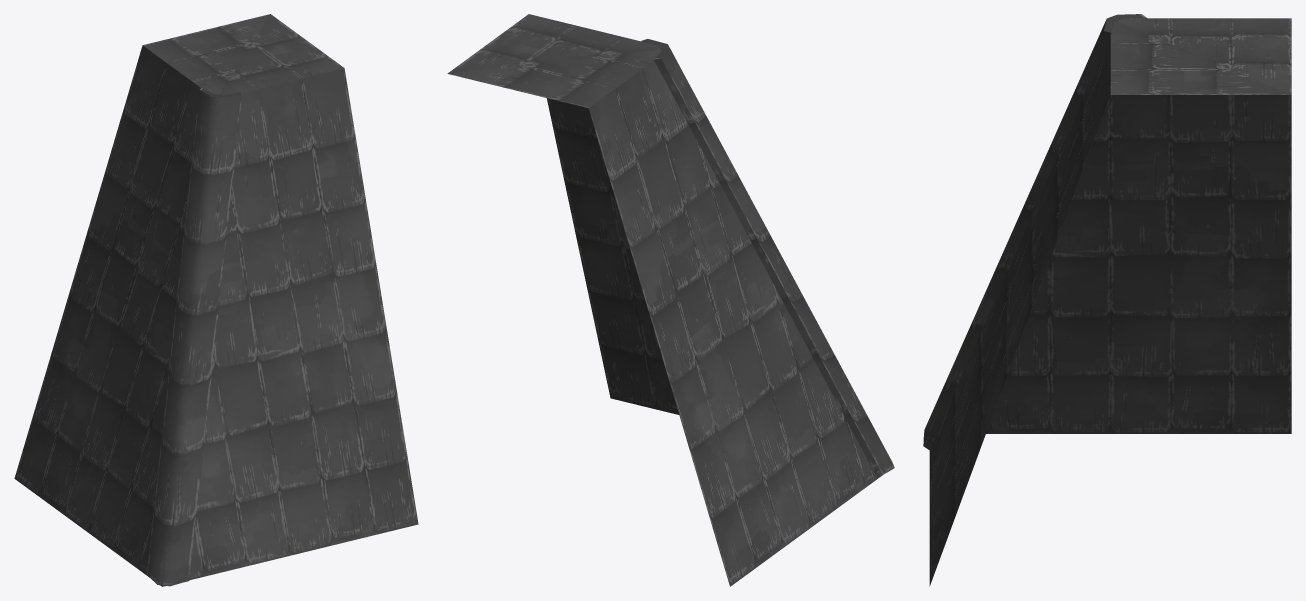
File: Roof_Slate_Corner.gltf
3 views of the same model, side by side, from view 1: azimuth 30°, elevation 25°; view 2: azimuth 150°, elevation 25°; view 3: azimuth 270°, elevation 25° (orthographic). The views are drawn at different scales.
Visible parts, largest first — view 1: Roof_Slate_Corner; view 2: Roof_Slate_Corner; view 3: Roof_Slate_Corner.
Part boxes in pixels (x1=…): Roof_Slate_Corner: x1=14, y1=14, x2=418, y2=586; Roof_Slate_Corner: x1=447, y1=14, x2=894, y2=586; Roof_Slate_Corner: x1=923, y1=14, x2=1291, y2=586.
Size of the model in its own units: 2.02 by 3.03 by 2.03.
Materials: 1 (1 with a texture image).
